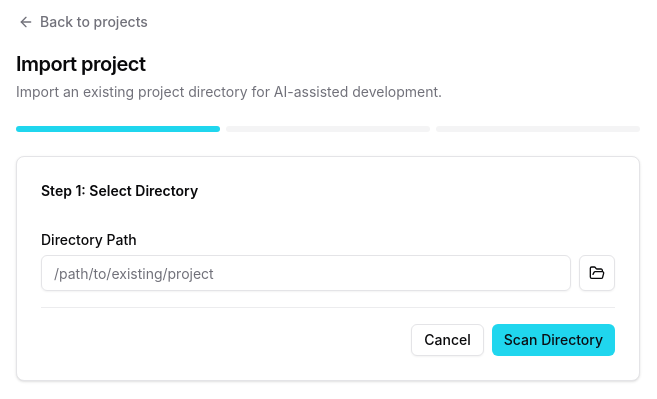
it: ImportProjectPage native directory picker › fills the path with the selected Windows directory
Click the button named "Browse". click: x=597, y=273
box: left=579, top=255, right=615, bottom=291
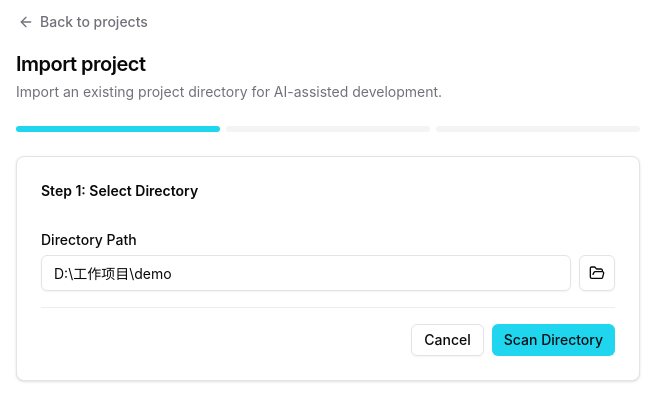
expect the message is not shown: met
expect the field labelled "Directory Path" holds "D:\\工作项目\\demo": met, box left=41, top=255, right=571, bottom=291
